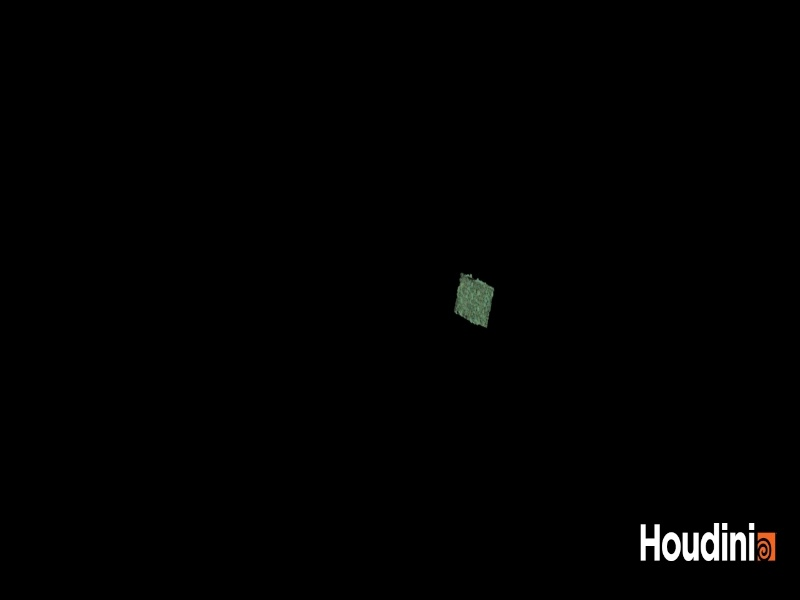waste: (446, 264, 499, 336)
